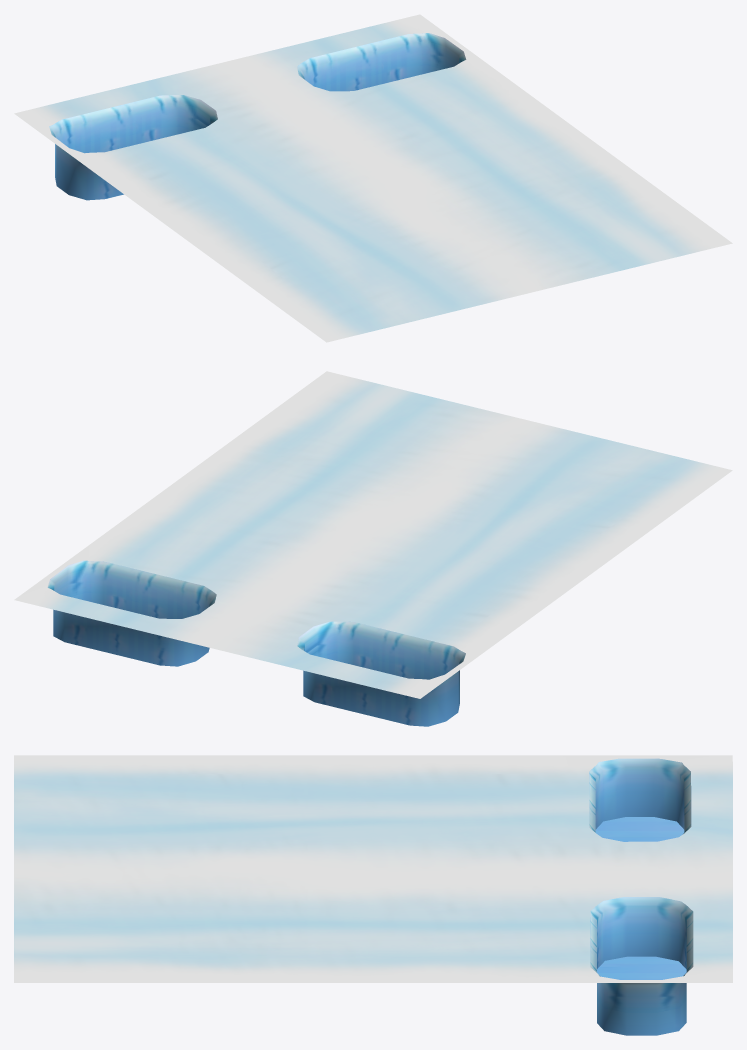
File: Hole_M_01_D.FBX
The picture shows the model from 3 angles, top to bottom: view 1: azimuth 30°, elevation 25°; view 2: azimuth 150°, elevation 25°; view 3: azimuth 270°, elevation 25°; orthographic projection. The views are drawn at different scales.
Parts seen in each view (by area): view 1: Object129; view 2: Object129; view 3: Object129.
Part boxes in pixels (bbox=[...]): Object129: bbox=[14, 14, 732, 342]; Object129: bbox=[14, 371, 732, 726]; Object129: bbox=[14, 755, 732, 1035].
Bounding box in the file's own units: 600 × 70 × 800.
